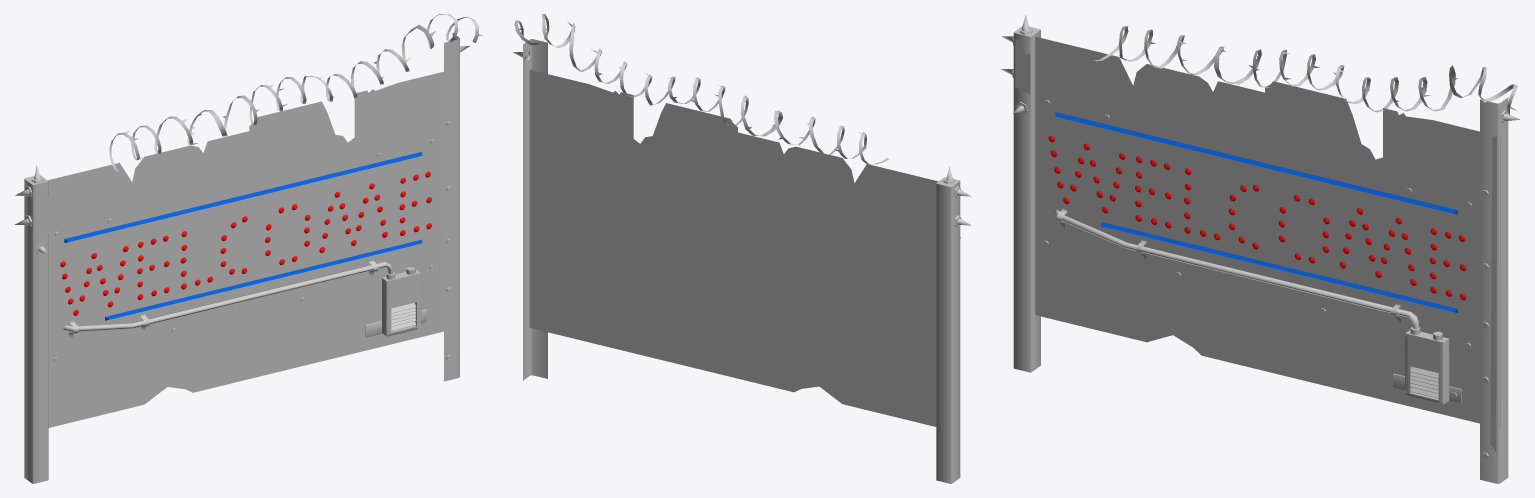
Rendered from Welcome Sign Stand.FBX.
3 views of the same model, side by side, from view 1: azimuth 30°, elevation 25°; view 2: azimuth 150°, elevation 25°; view 3: azimuth 330°, elevation 25° (orthographic). The views are drawn at different scales.
Parts seen in each view (by area): view 1: Welcome Sign Stand_LOD0, Welcome Neon_LOD0; view 2: Welcome Sign Stand_LOD0; view 3: Welcome Sign Stand_LOD0, Welcome Neon_LOD0.
Part boxes in pixels (x1,y1,x2,y2): Welcome Sign Stand_LOD0: [14, 14, 483, 483]; Welcome Neon_LOD0: [60, 152, 431, 320]; Welcome Sign Stand_LOD0: [513, 14, 971, 483]; Welcome Sign Stand_LOD0: [1001, 14, 1519, 483]; Welcome Neon_LOD0: [1048, 112, 1466, 312].
Size of what is drawn, in the model's own units: 195 by 147 by 14.
